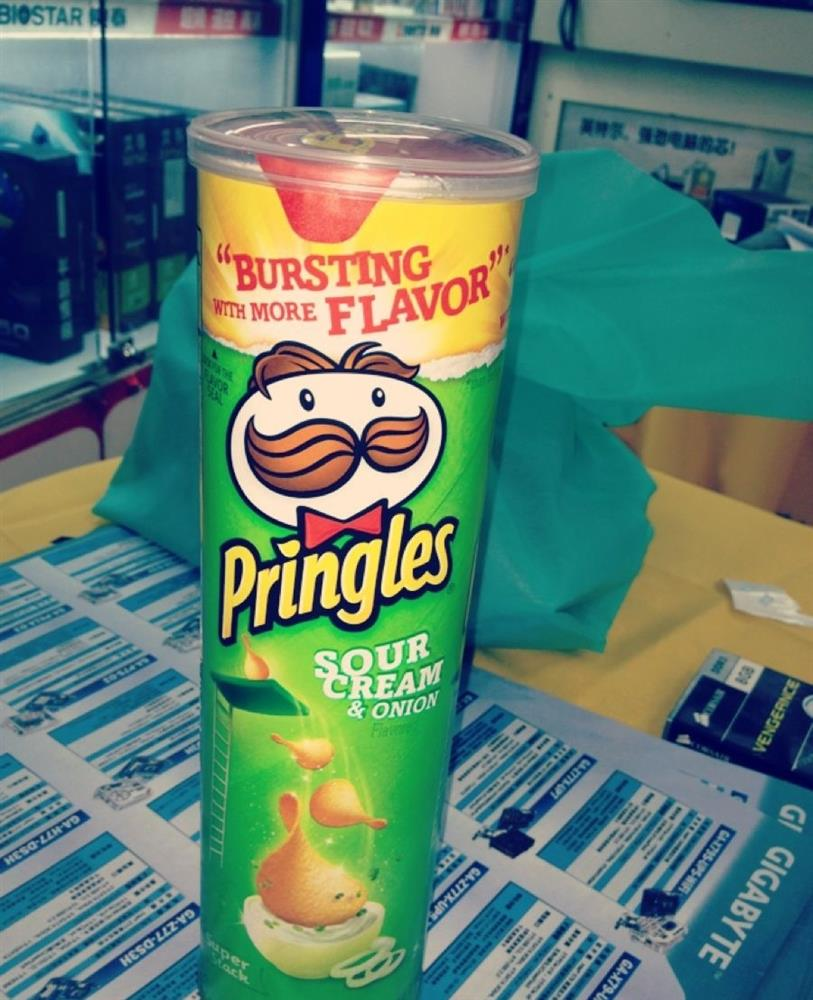pringles: (197, 327, 477, 656)
